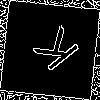K: (24, 24, 81, 80)
